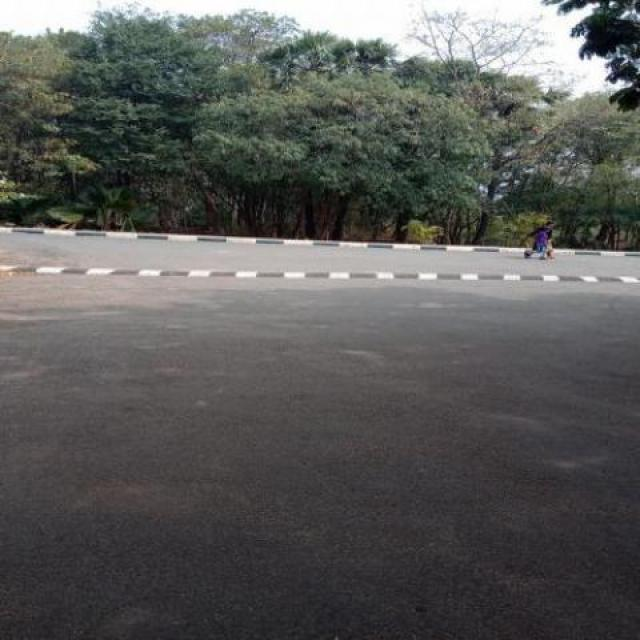Speed Bump: (0, 265, 639, 283)
